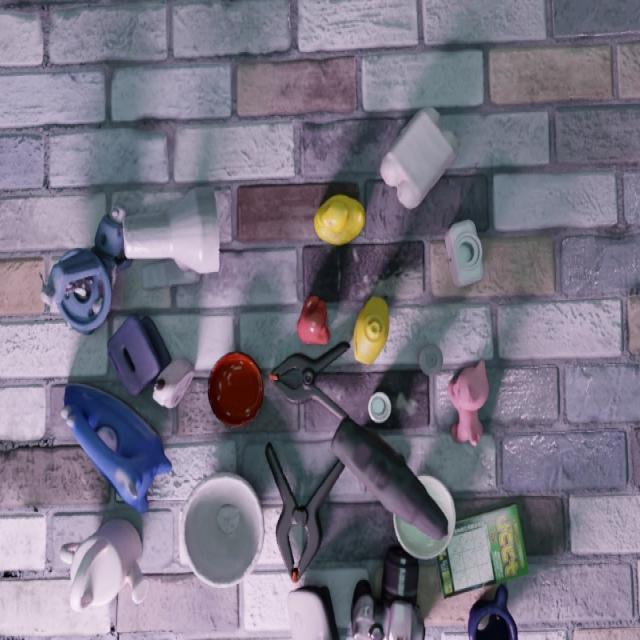Other Objects: (332, 416, 448, 547), (63, 384, 172, 512), (266, 443, 344, 581), (180, 473, 265, 587), (124, 188, 220, 273), (438, 504, 526, 595), (62, 517, 145, 611), (380, 108, 457, 208), (347, 544, 425, 639), (42, 248, 112, 333), (108, 313, 172, 395), (394, 475, 456, 559), (109, 313, 171, 393), (209, 352, 264, 427), (448, 360, 489, 445), (288, 585, 339, 639), (470, 584, 518, 639), (314, 193, 364, 245), (446, 220, 484, 285), (354, 296, 389, 364), (153, 359, 195, 408), (300, 587, 334, 639), (297, 295, 330, 344), (369, 392, 392, 423)
